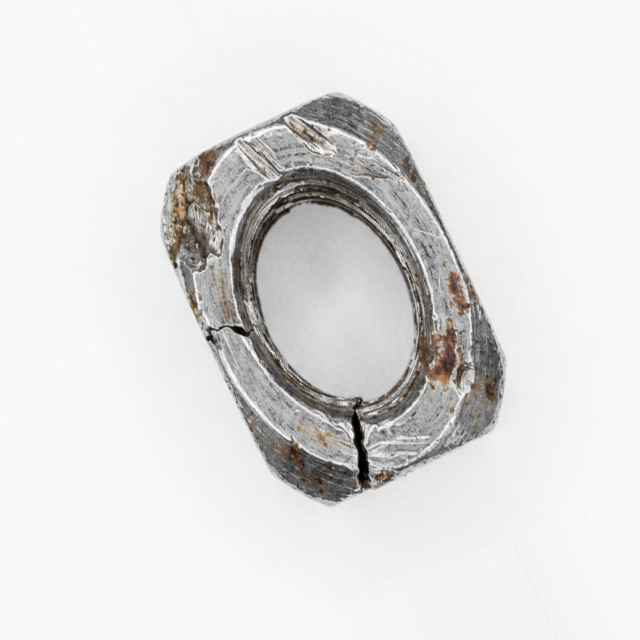defect: (153, 152, 226, 281), (344, 390, 386, 503), (193, 307, 282, 351), (346, 139, 401, 201), (278, 106, 341, 159), (230, 132, 286, 185), (447, 353, 487, 403)
